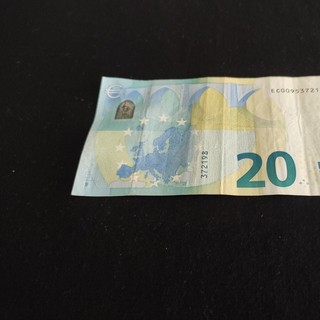20EUROBack: (70, 73, 320, 197)
